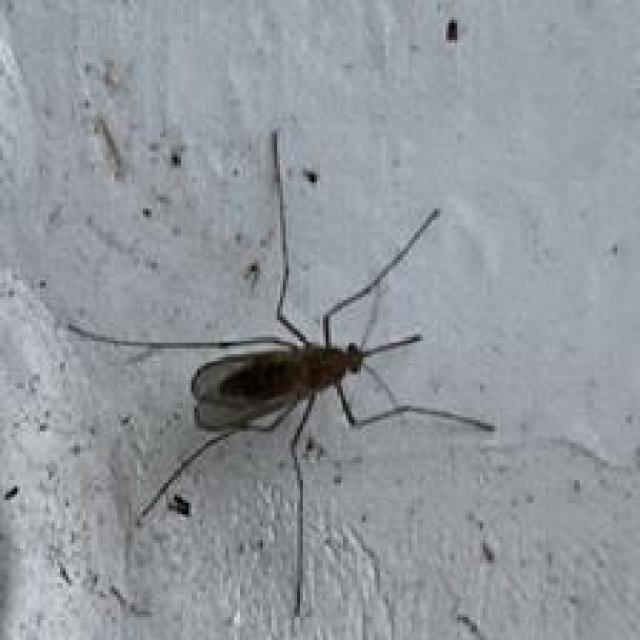Culex: (66, 129, 497, 617)
